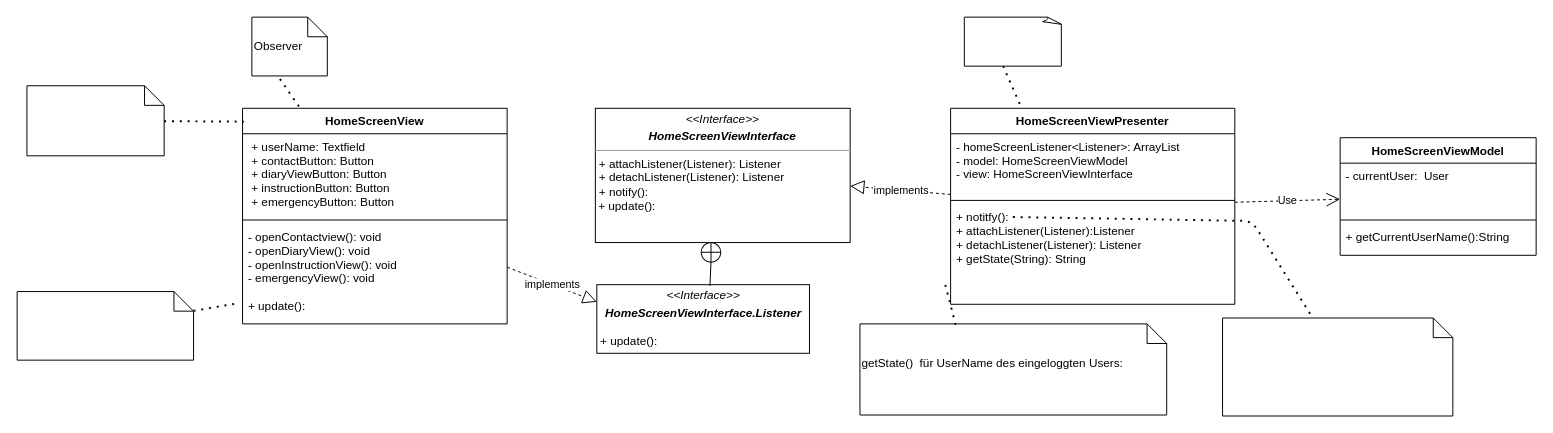
Some shapes in this 1553 by 433 pixel diagram are drawn without their labels. The shapes that lost their labels are listed below. From the top down, each one's centre as x and y in pixels, then its label:
point 1012,41: Subject
point 95,120: Im Constructor trägt sich diese View als Listener ein.
point 105,325: Prinzip: observerState = subject ->getState()
point 1337,366: notify() so: for all Listener Listener -> Listener.update()
